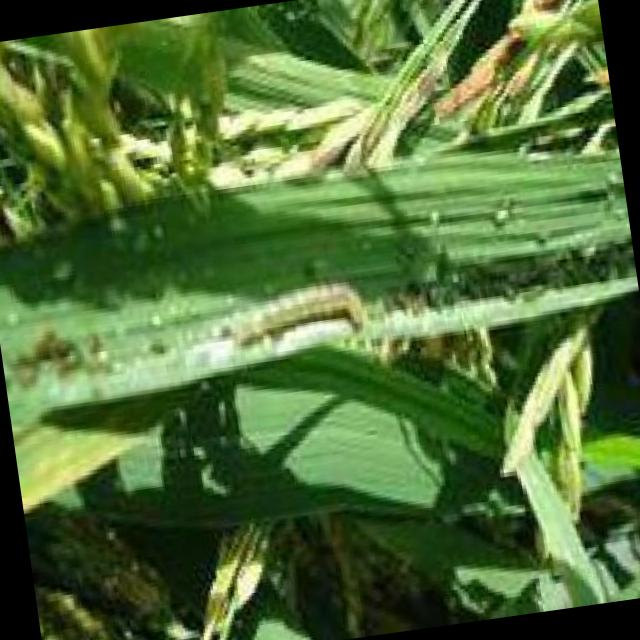leaf-folder: (222, 260, 378, 364)
